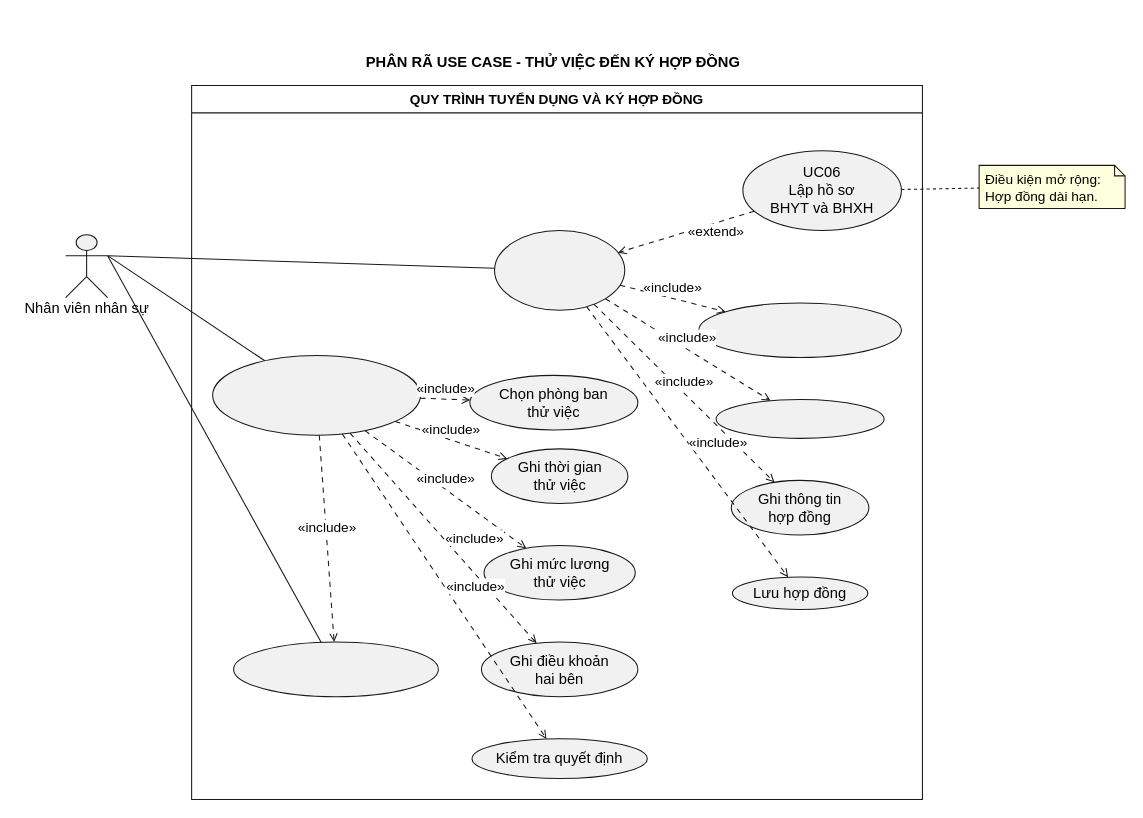
This 1143x818 diagram has some shape labels left out. The centre of each missing label's shape, as x and y in pixels:
Chọn loại hợp đồng: [799,418]
Tiếp nhận thông tin nhân viên: [335,669]
Tra cứu quyết định tuyển dụng: [799,330]
UC02 Lập quyết định tuyển dụng thử việc: [316,394]
UC03 Ký hợp đồng lao động: [559,269]
